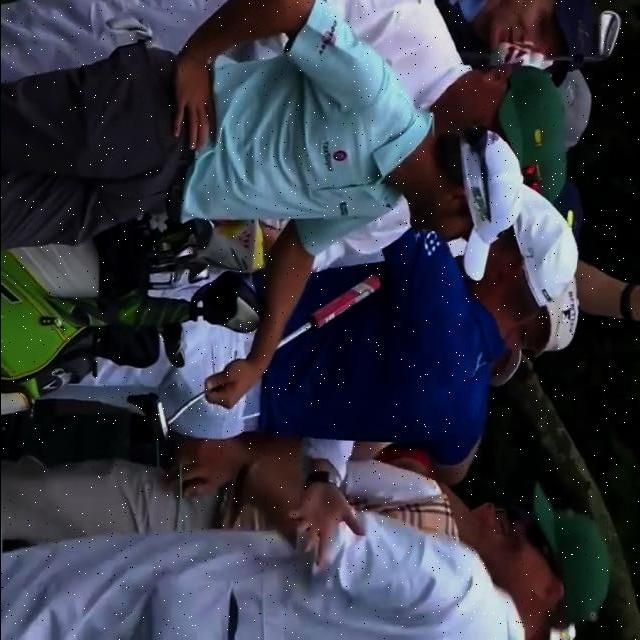golf club-handle: (147, 275, 381, 440)
golf club-head: (146, 394, 168, 440)
